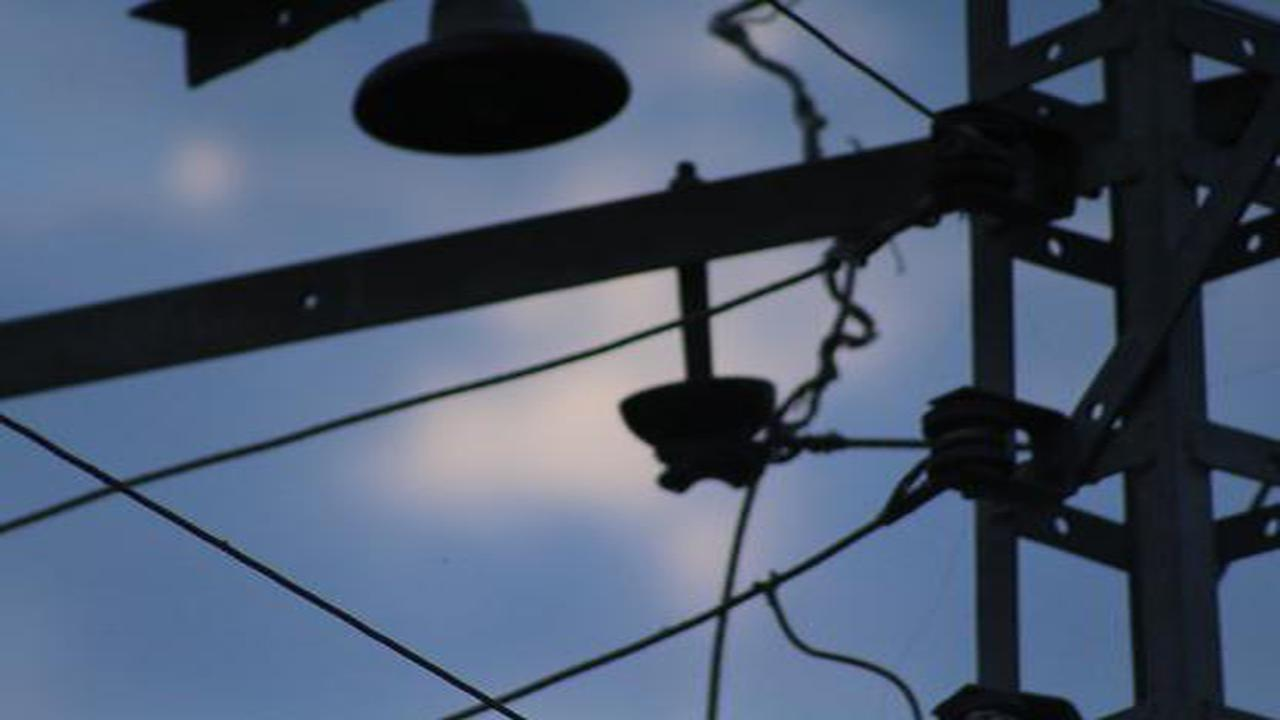insulator_disc: (352, 13, 642, 157)
insulator_pin: (618, 369, 795, 505)
